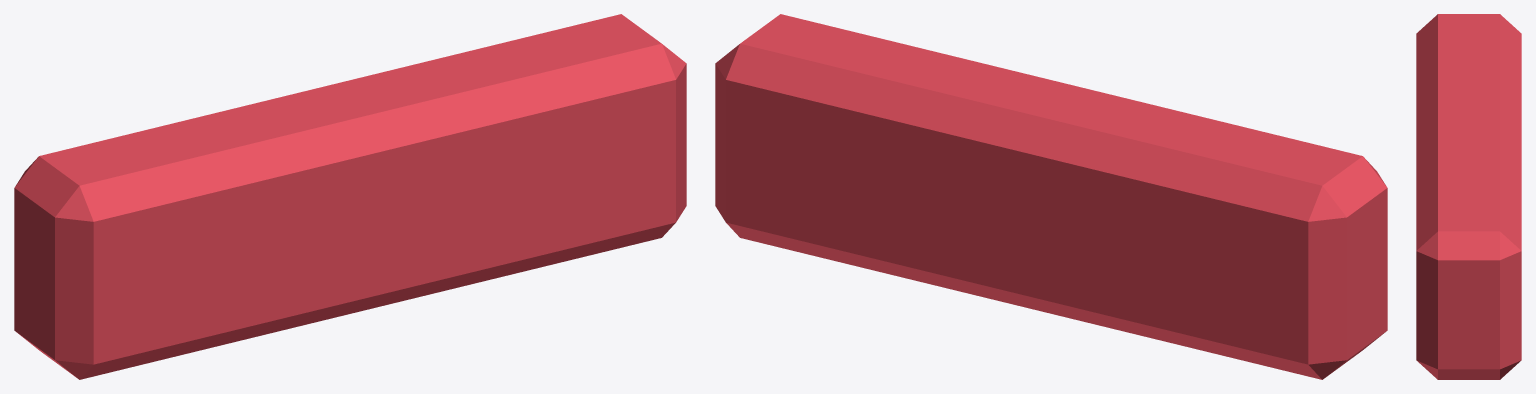
Rendered from button maybe 2.fbx.
3 views of the same model, side by side, from view 1: azimuth 30°, elevation 25°; view 2: azimuth 150°, elevation 25°; view 3: azimuth 270°, elevation 25° (orthographic). The views are drawn at different scales.
Parts seen in each view (by area): view 1: Cube.003; view 2: Cube.003; view 3: Cube.003.
Boxes of the visible parts, x1=… form: Cube.003: x1=14, y1=14, x2=686, y2=379; Cube.003: x1=715, y1=14, x2=1387, y2=379; Cube.003: x1=1416, y1=14, x2=1521, y2=379.
Bounding box in the file's own units: 128 × 37.72 × 24.26.
